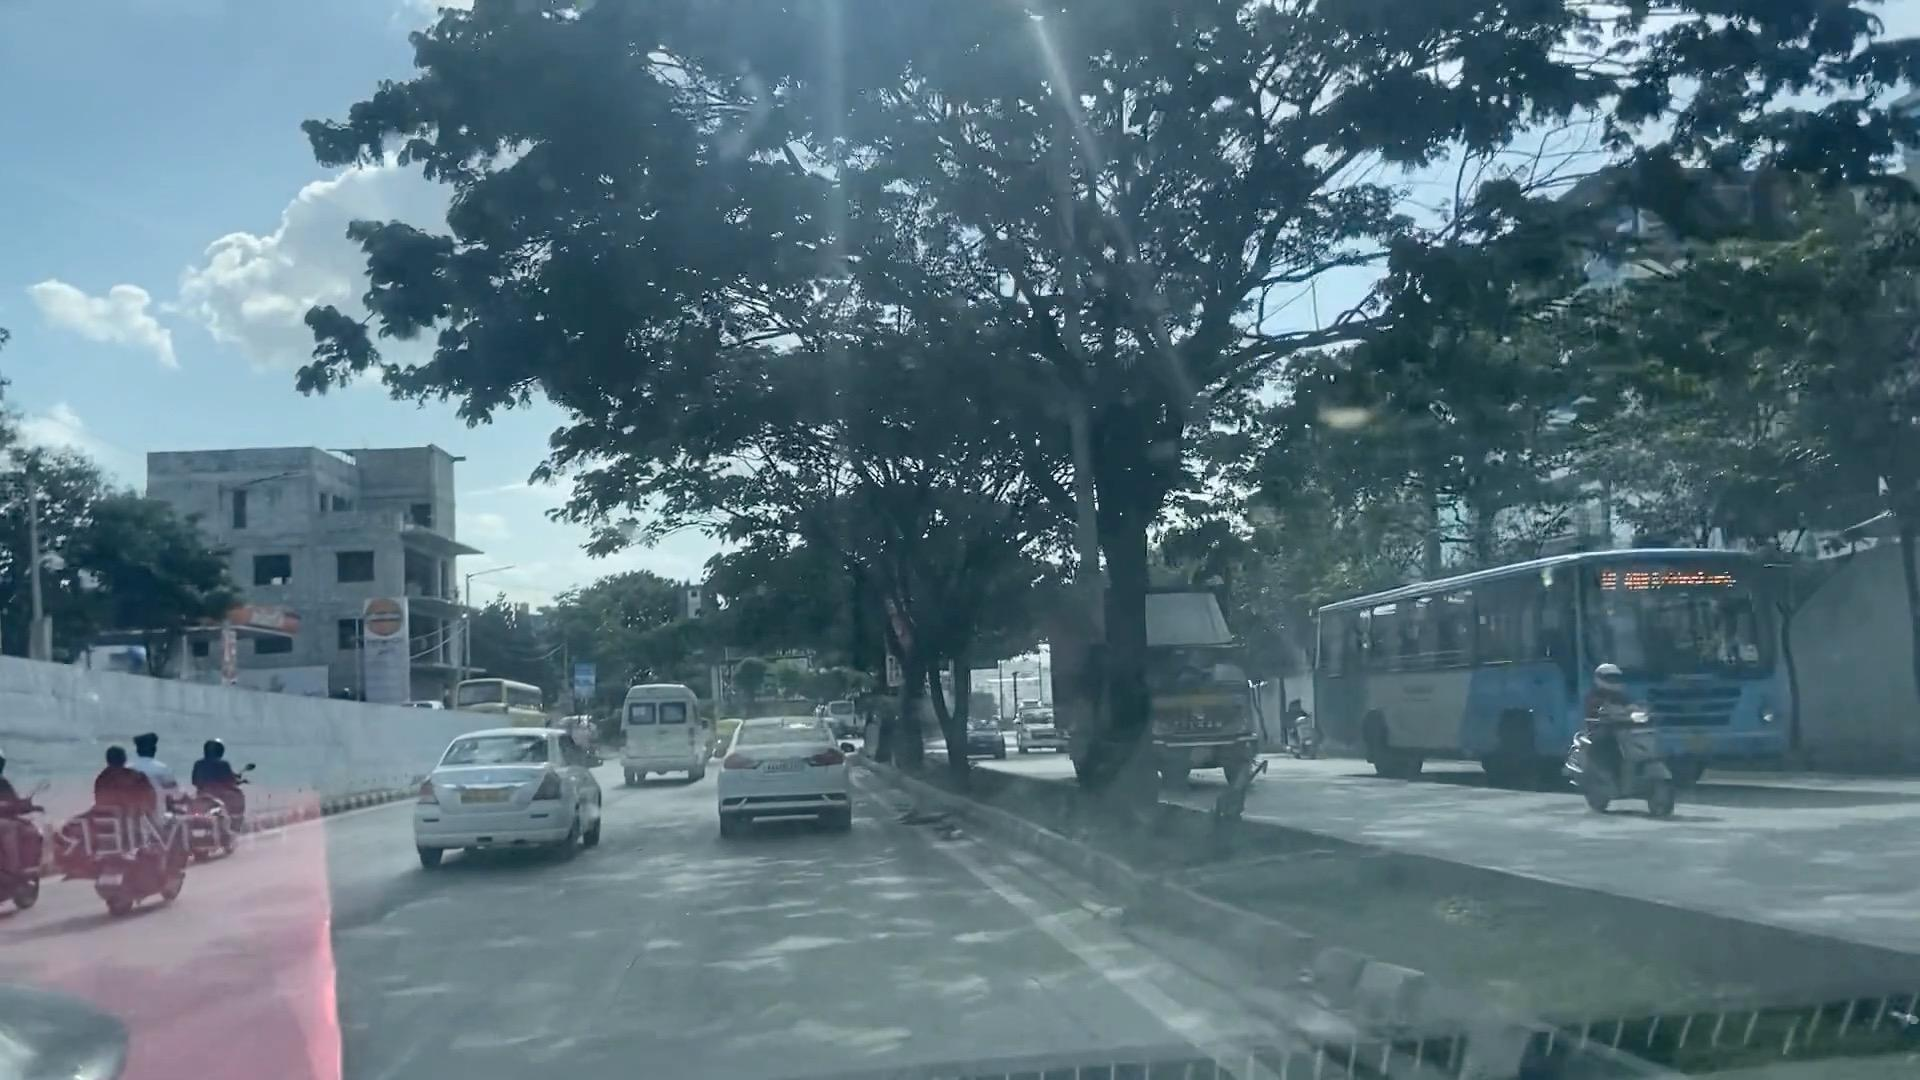HMV: (625, 680, 692, 782)
LMV: (425, 725, 580, 862), (100, 723, 182, 902), (728, 715, 848, 828), (193, 731, 251, 832)
